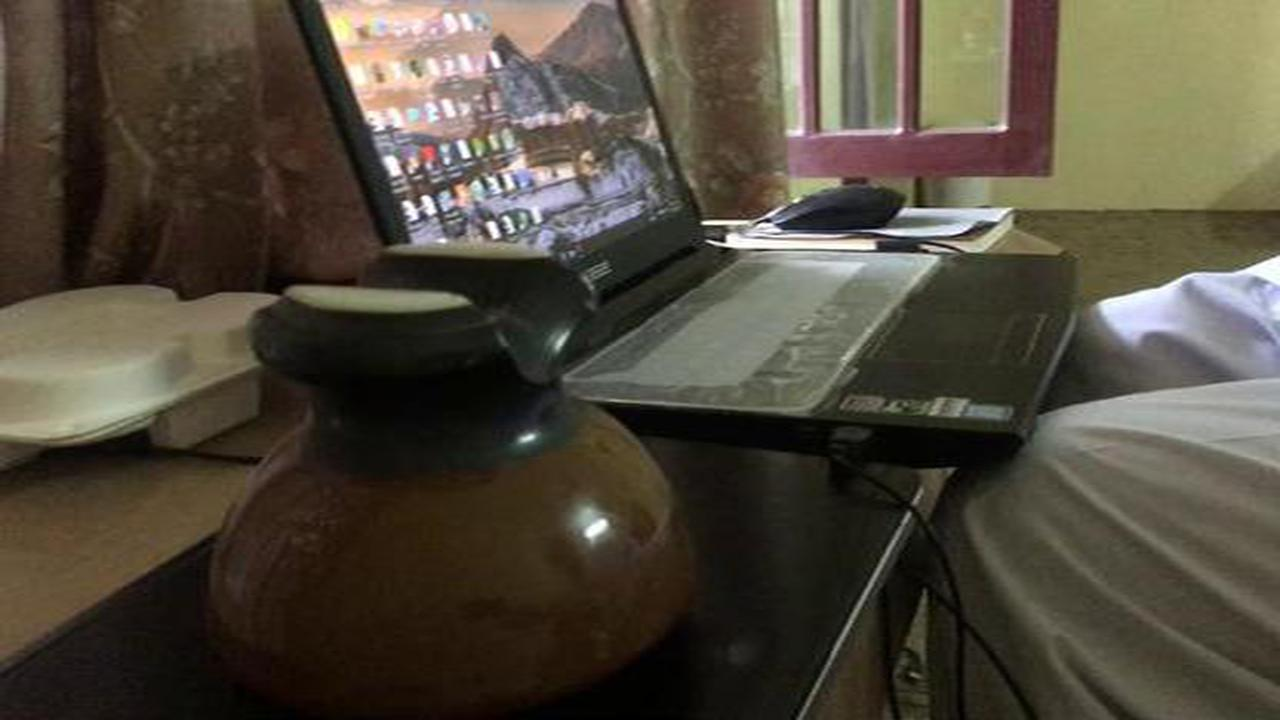insulator_pin: (185, 236, 717, 712)
